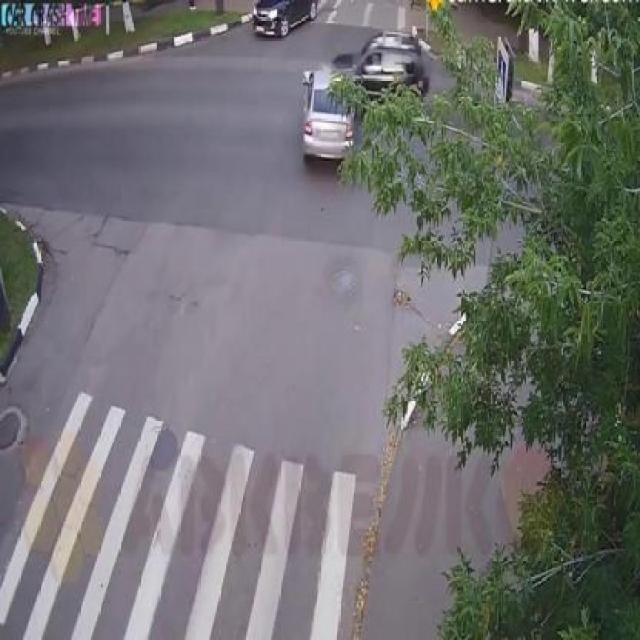accident: (309, 40, 388, 108)
